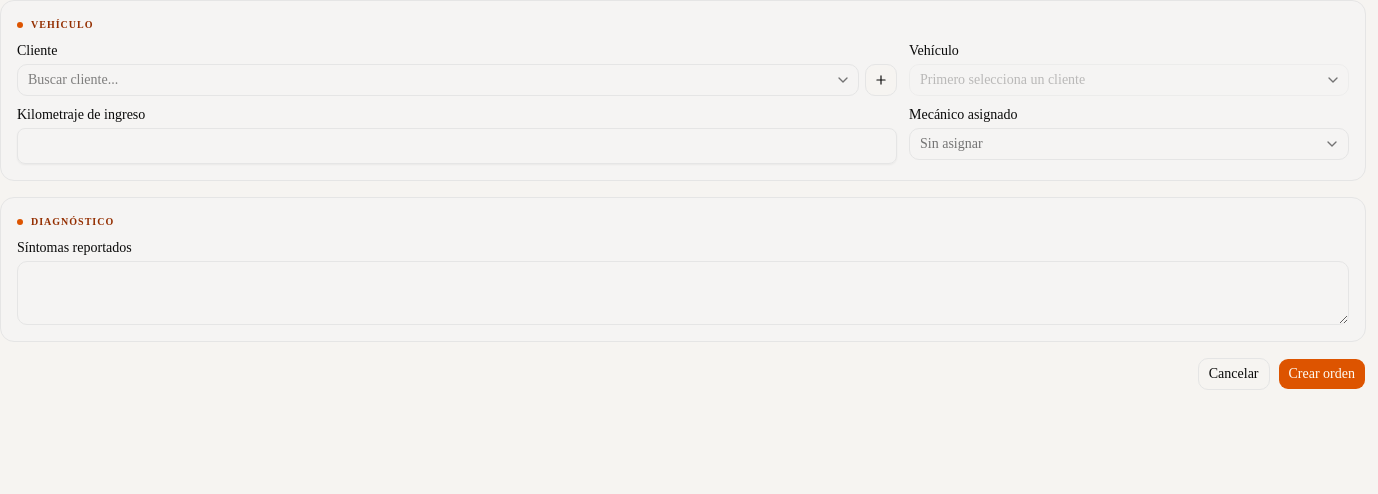
Test: NuevaOrdenDesdeCeroForm › shows the error message when the action returns one
Click the dropdown labelled "Cliente".
click(438, 80)  # box [17,64,859,96]
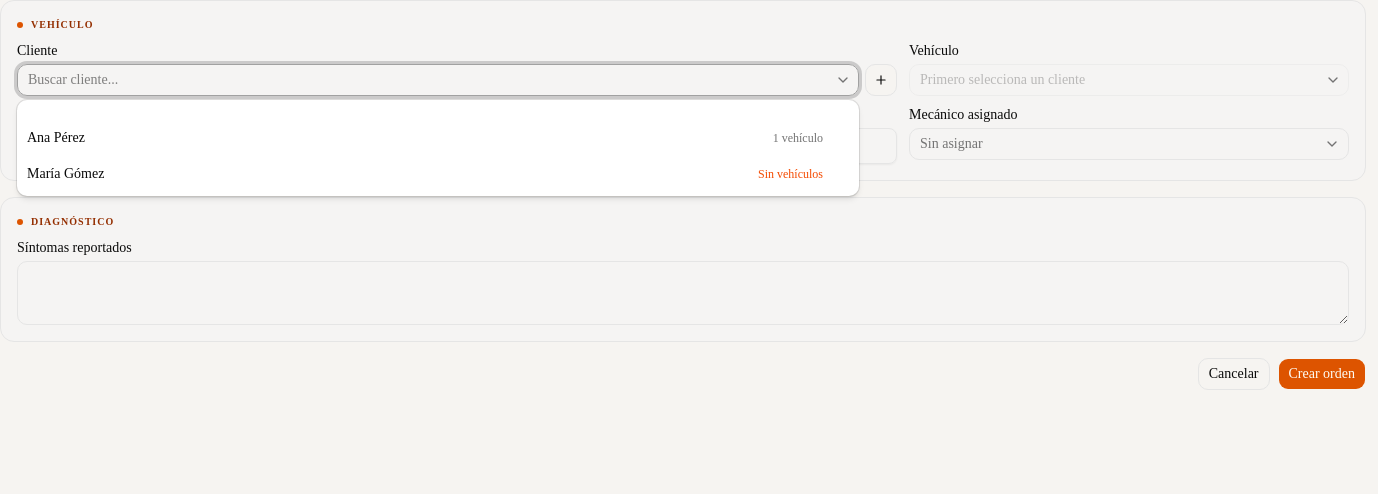
Click the option "Ana Pérez 1 vehículo".
click(56, 138)  # box [27,130,823,145]
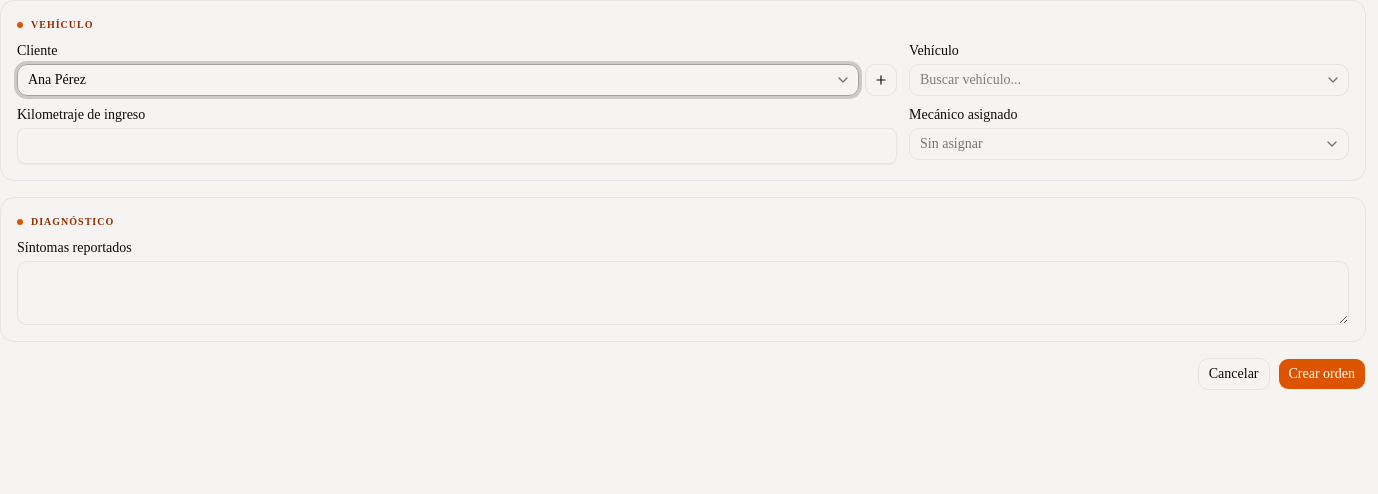
Click the dropdown labelled "Vehículo".
click(1129, 80)  # box [909,64,1349,96]
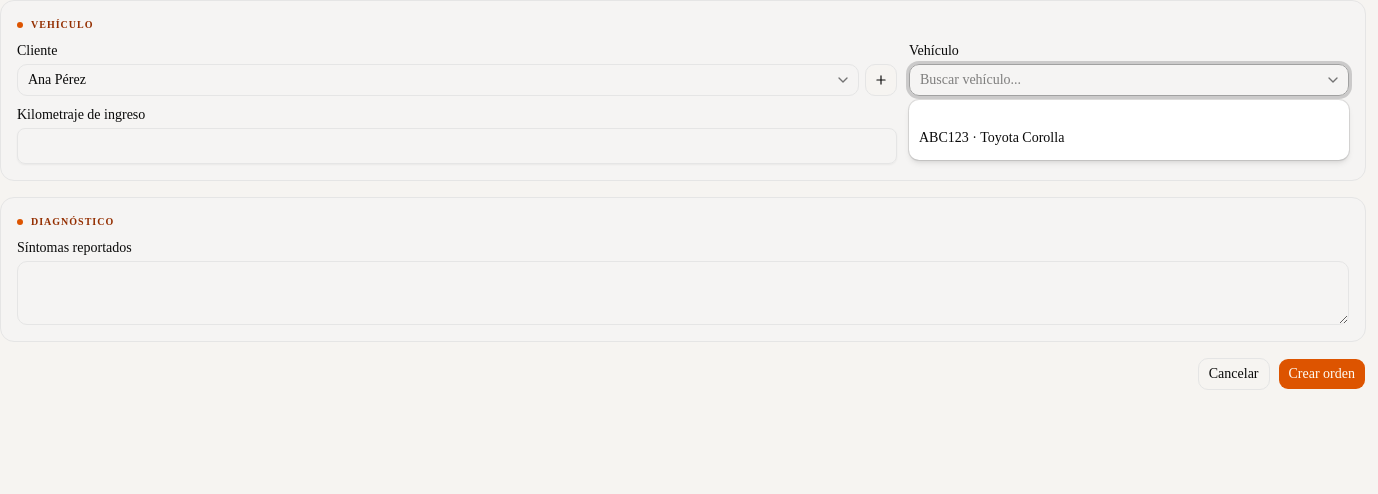
Click the option "ABC123 · Toyota Corolla".
click(992, 138)  # box [919,130,1064,145]
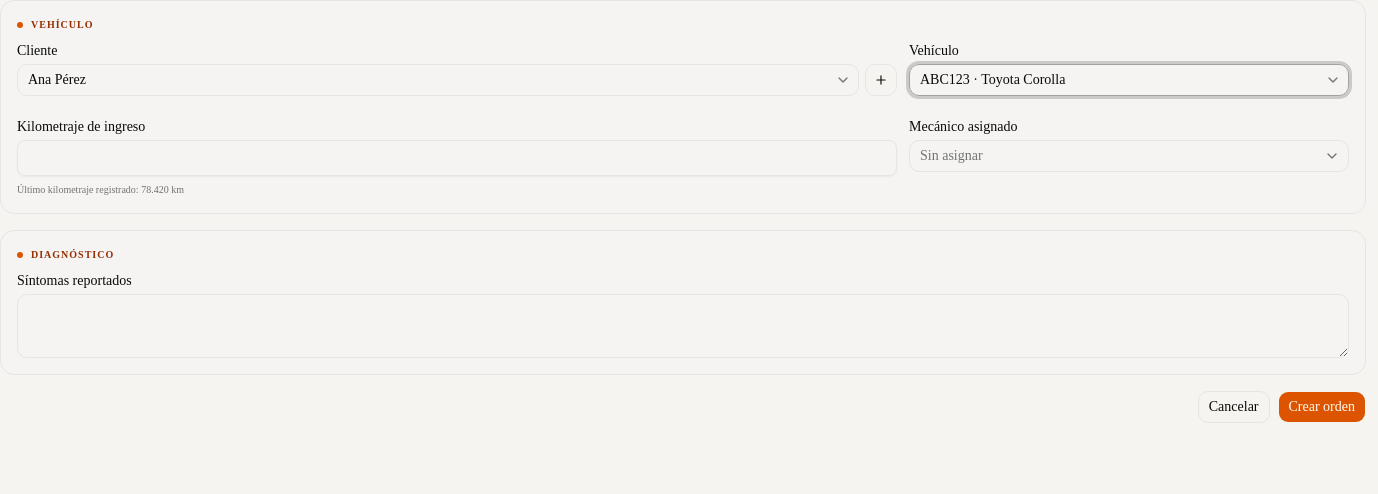
Click the button "Crear orden".
click(1322, 407)  # box [1278,391,1366,423]
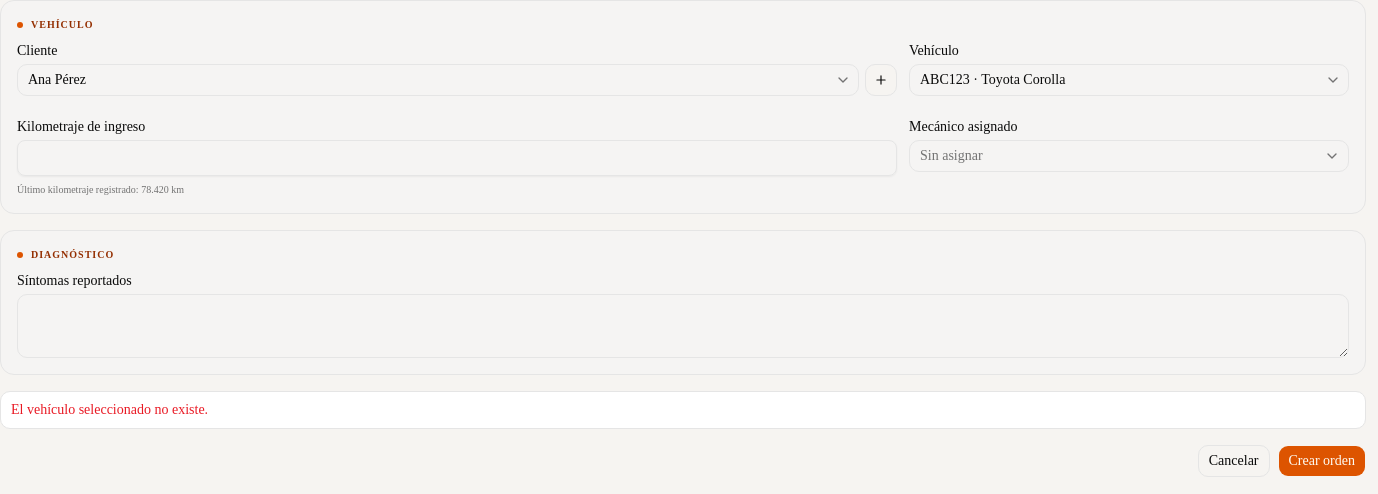
Expected: the message reads "El vehículo seleccionado no existe.", [11,402,208,417]
